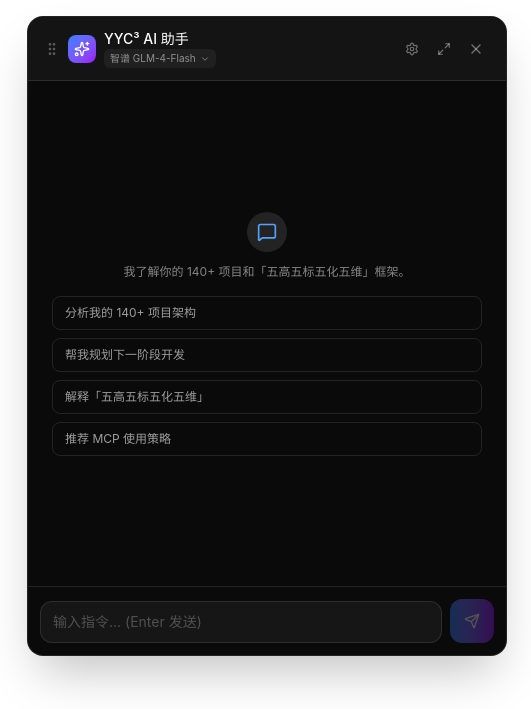
Test case: AiAssistant › sends message on Enter key
Step 1. Type "测试消息" into the text box with placeholder "输入指令... (Enter 发送)" → (241, 622), box x1=40 y1=601 x2=442 y2=643
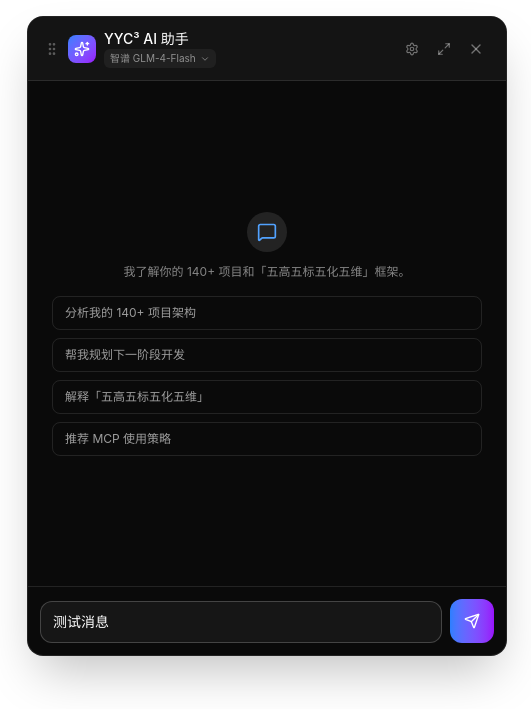
Step 2. Press Enter
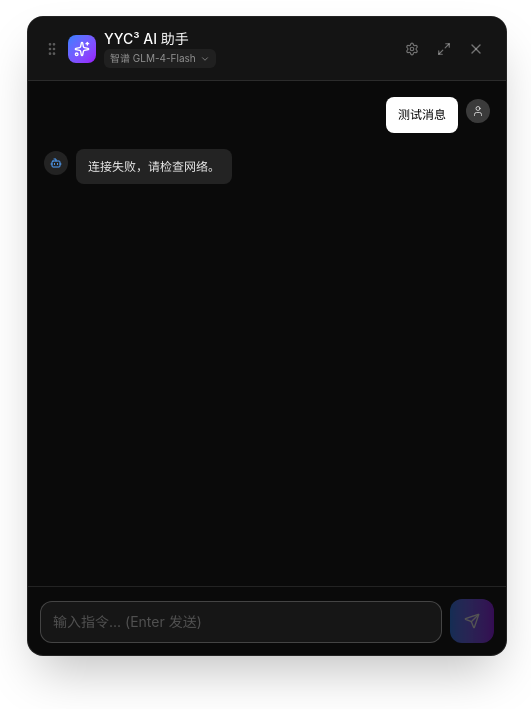
Now the text "测试消息" is shown, box x1=398 y1=105 x2=446 y2=124
